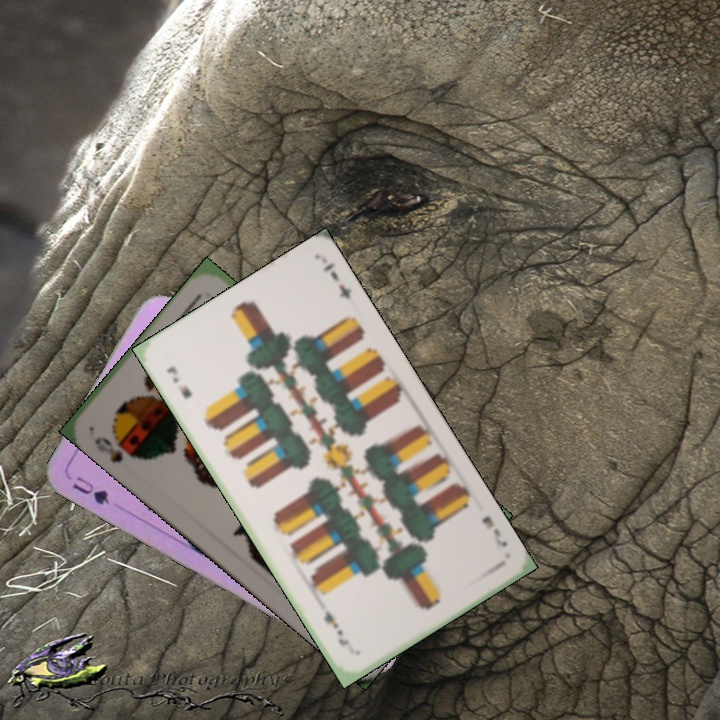E7: (162, 362, 195, 402), (478, 512, 510, 550)
GU: (68, 472, 112, 508)
SO: (90, 432, 144, 466)
